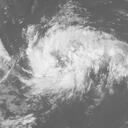cyclone: (25, 24, 122, 96)
